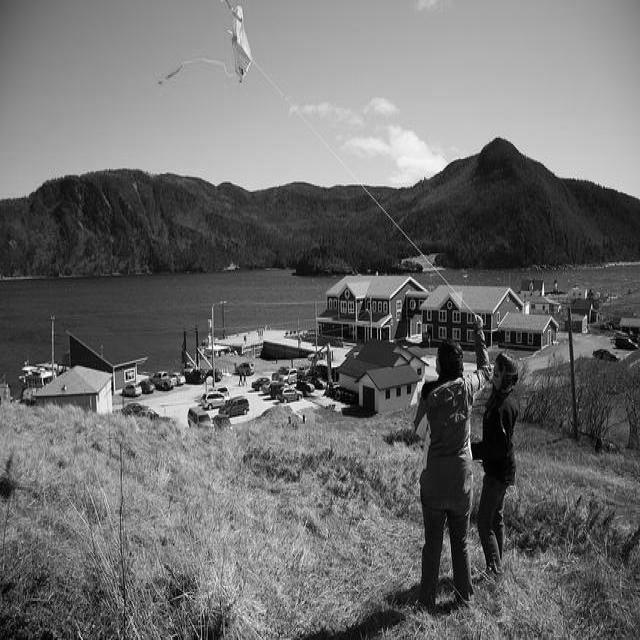vehicle: (218, 396, 250, 416), (277, 385, 303, 402), (121, 403, 151, 417), (212, 414, 235, 430), (592, 350, 620, 363), (137, 378, 157, 394), (262, 381, 282, 396), (122, 384, 142, 398), (208, 385, 230, 397), (168, 370, 186, 384), (235, 363, 255, 375), (252, 378, 270, 390), (205, 369, 221, 381)
